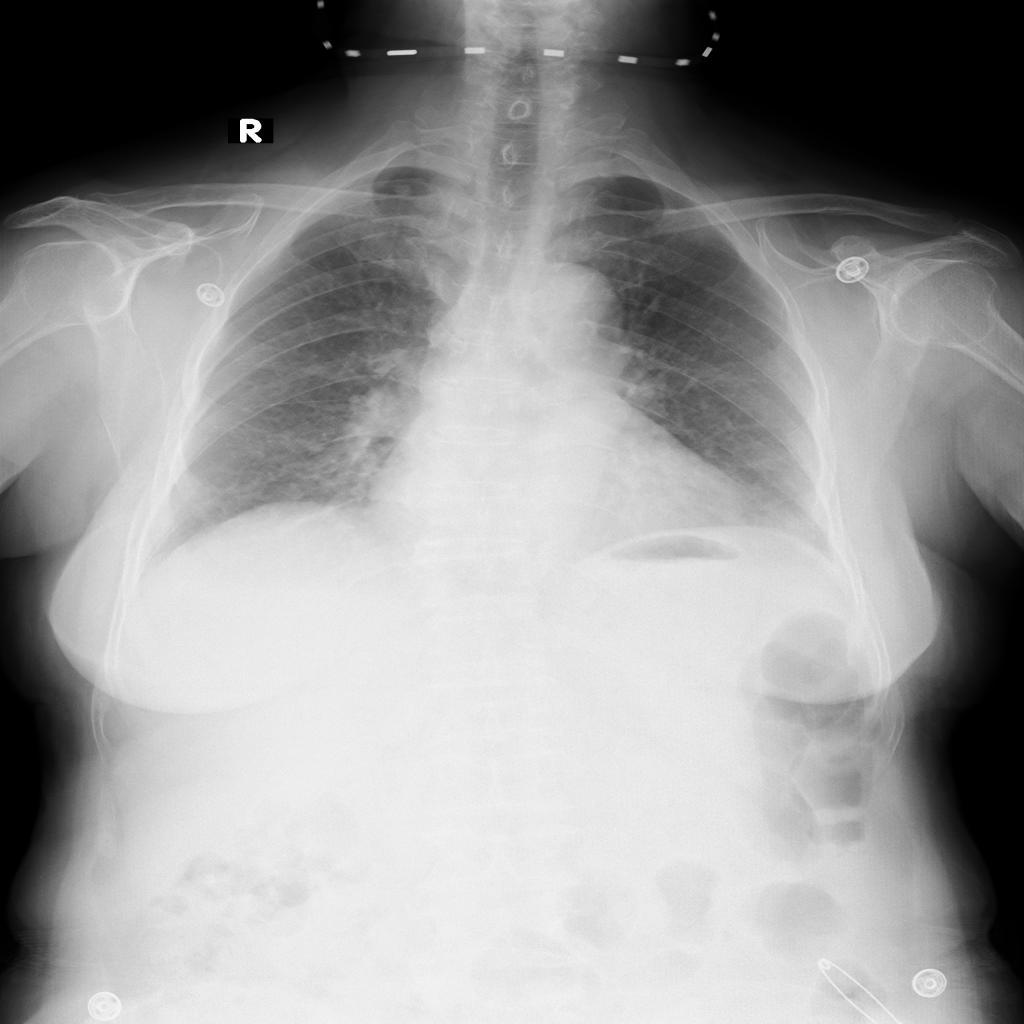Nodule: (392, 184, 415, 198)
